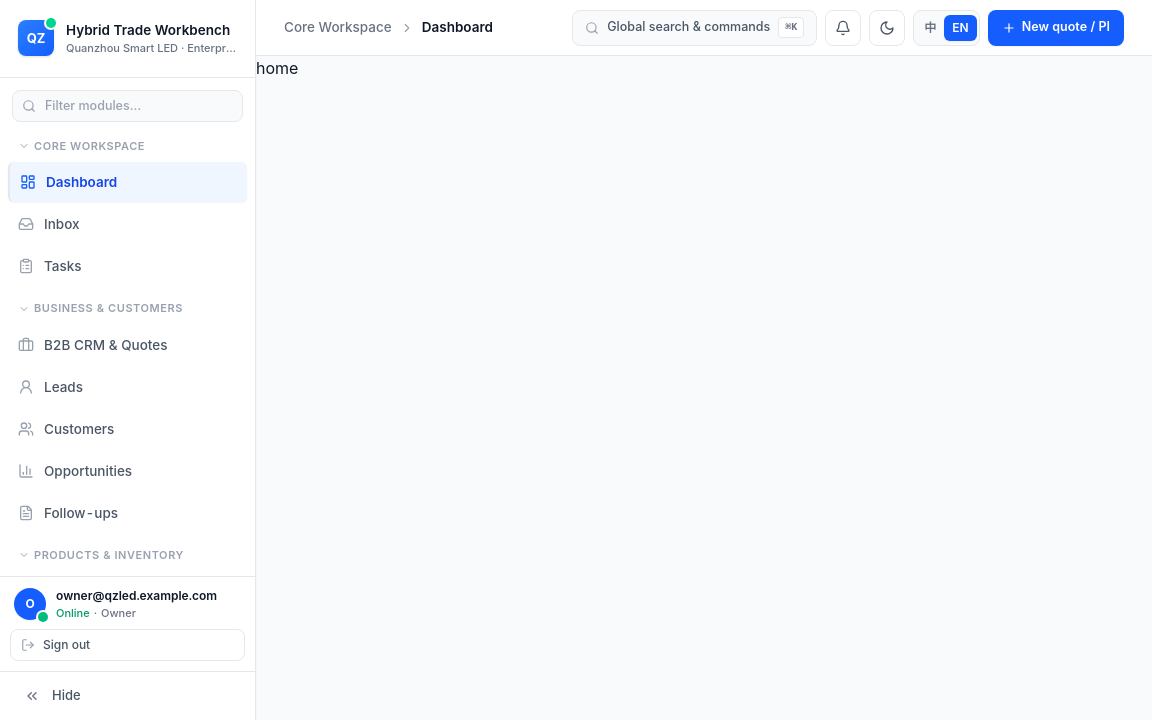
Test case: AppShell streamlined sidebar and Ctrl+K › opens the palette with Ctrl+K and navigates with an entry
The image size is (1152, 720).
Step 1. Press k
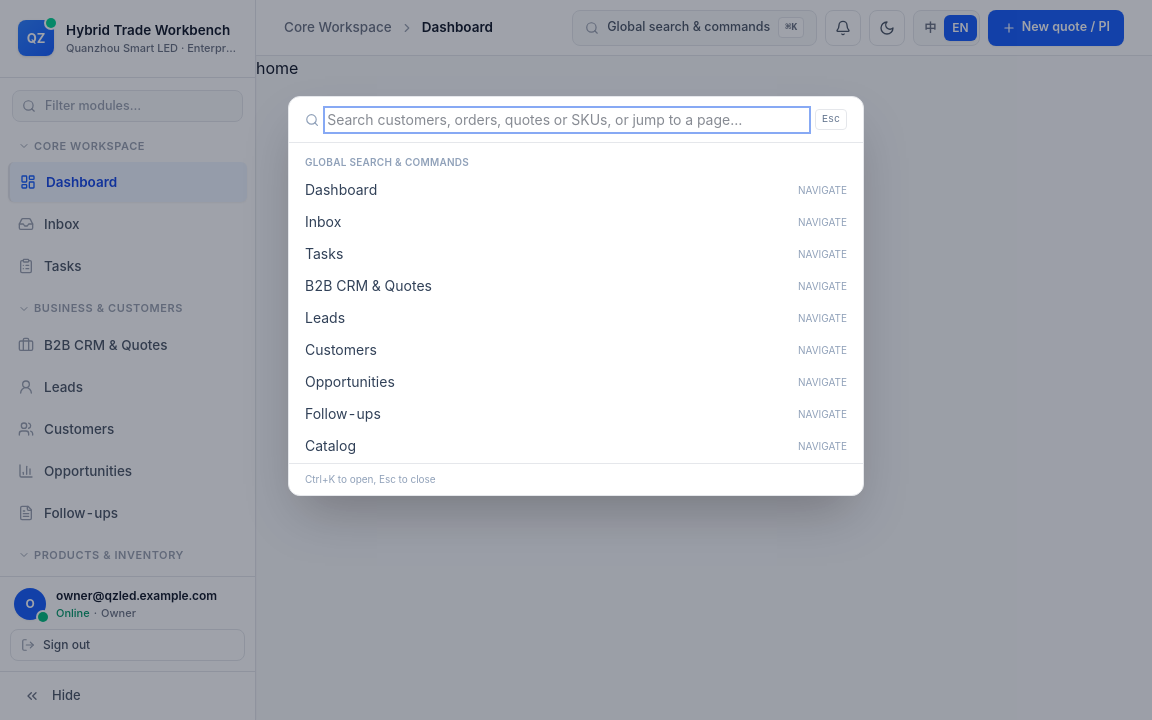
Expected: the element with test id "command-palette" is shown
Step 2. Type "wms" into the field with test id "command-palette-input" → [567, 120], box left=327, top=110, right=807, bottom=130
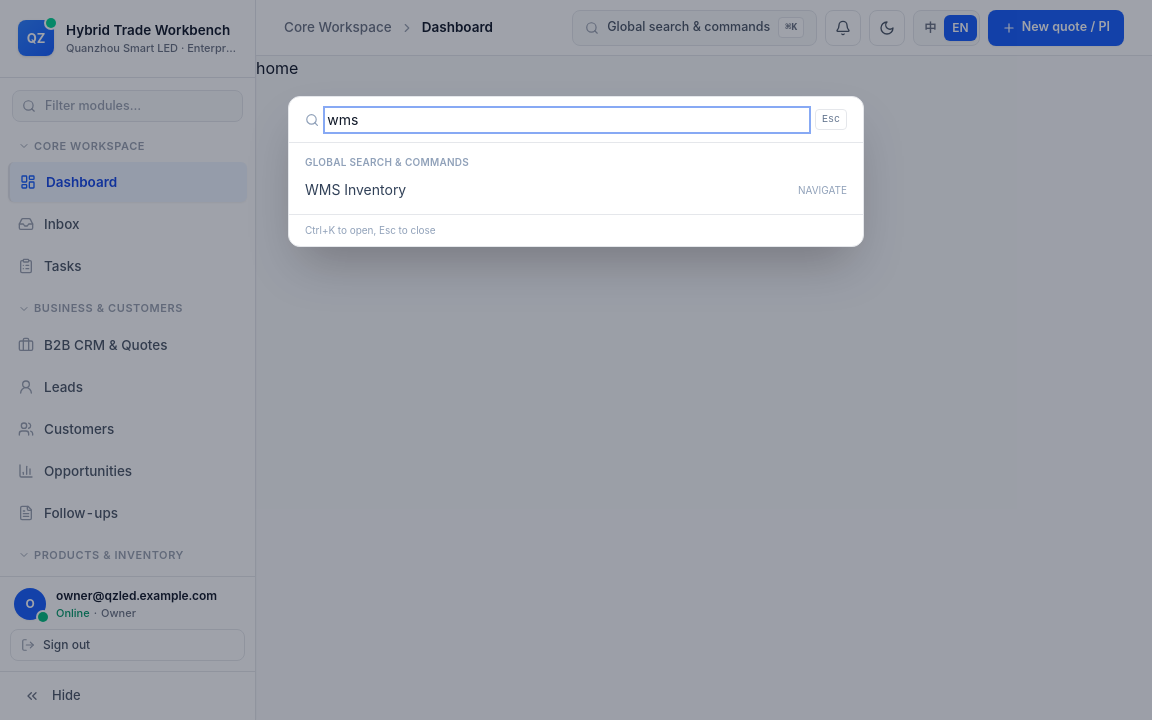
Expected: the button with test id "command-entry-nav-/wms" is enabled, left=297, top=174, right=855, bottom=206
Step 3. Replace the text in the field with test id "command-palette-input" with "nothing-matches-this" → [567, 120], box left=327, top=110, right=807, bottom=130
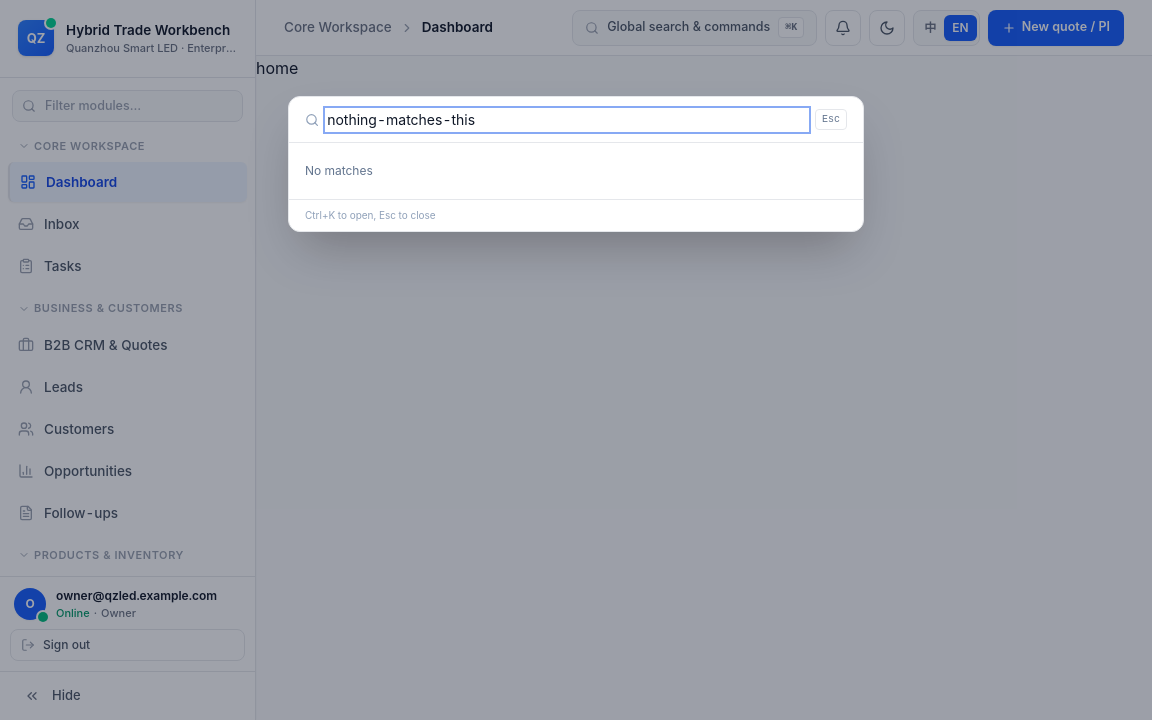
Expected: the text "No matches" is shown, left=305, top=163, right=373, bottom=178
Step 4. Press Escape
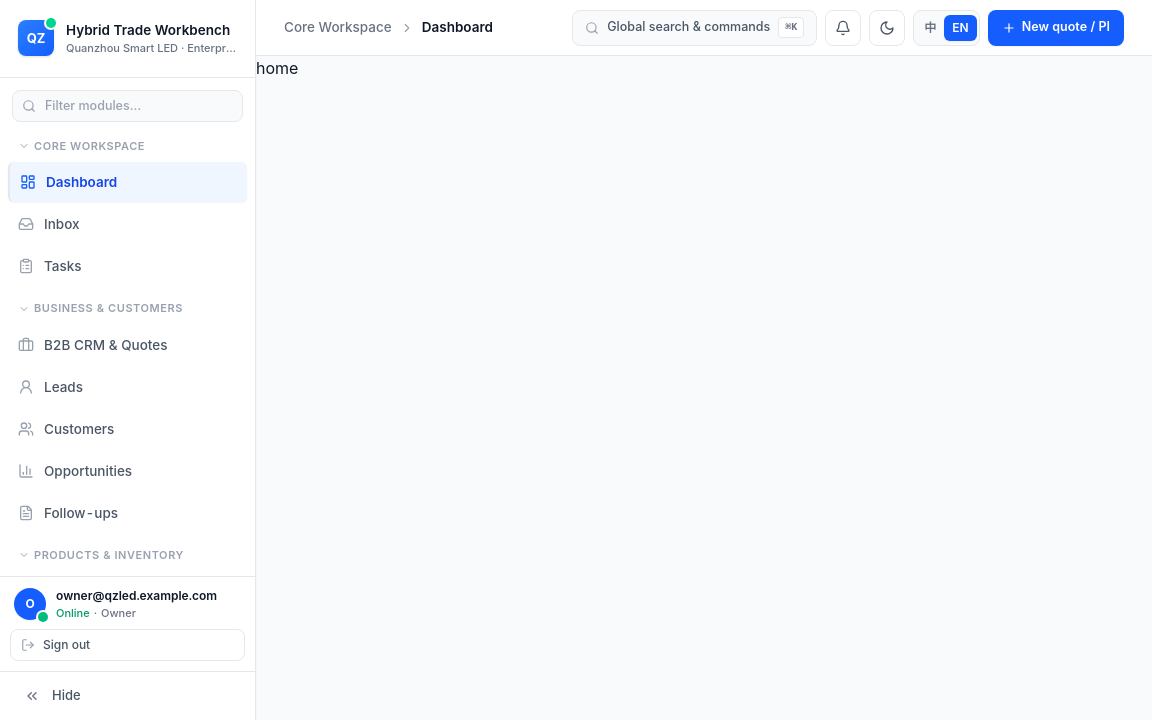
Expected: the element with test id "command-palette" is gone
